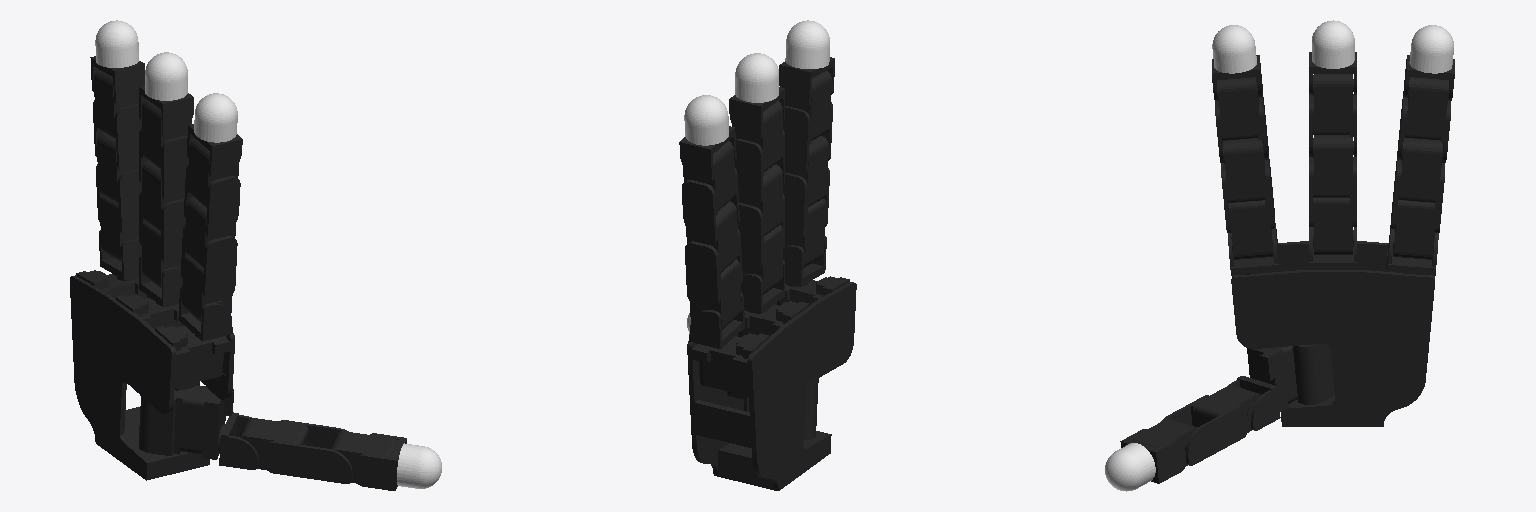
The robot description file, URDF, robot "allegro_hand_left":
<?xml version="1.0" ?>
<!-- =================================================================================== -->
<!-- |    This document was autogenerated by xacro from allegro_hand_description_left.xacro | -->
<!-- |    EDITING THIS FILE BY HAND IS NOT RECOMMENDED                                 | -->
<!-- =================================================================================== -->
<robot name="allegro_hand_left" xmlns:xacro="http://www.ros.org/wiki/xacro">
  <!--
rosrun xacro xacro.py allegro_hand_description_right.urdf.xacro > allegro_hand_description_right.urdf
roslaunch launchers/fuerte/allegro_hand_jgui_right_virtual.launch 
-->
  <!-- ======================== BASE PARAMS ========================= -->
  <!-- ======================== FINGER PARAMS ======================== -->
  <!-- full height from joint to tip. when used,
the radius of the finger tip sphere will be subtracted
and one fixed link will be added for the tip. -->
  <!--0.0435,   0.044981-->
  <!--0.002298-->
  <!--0.002298-->
  <!-- ========================= THUMB PARAMS ========================= -->
  <!-- ========================= LIMITS ========================= -->
  <!-- ============================================================================= -->
  <!-- ============================================================================= -->
  <!-- ============================================================================= -->
  <!-- BASE -->
  <link name="base_link">
    <visual>
      <geometry>
        <mesh filename="package://allegro_hand_description/meshes/base_link_left.obj"/>
      </geometry>
      <!-- LEFT -->
      <origin rpy="-1.5707963259 0 0" xyz="0 0 0 "/>
      <!-- RIGHT -->
      <!--<origin rpy="0 0 0" xyz="0 0 0 "/>-->
      <material name="black">
        <color rgba="0.2 0.2 0.2 1"/>
      </material>
    </visual>
    <collision>
      <origin rpy="0 0 0" xyz="-0.009300 0 -0.0475"/>
      <geometry>
        <box size="0.0408 0.1130 0.095"/>
      </geometry>
    </collision>
  </link>
  <!-- ============================================================================= -->
  <!-- FINGERS -->
  <!-- RIGHT HAND due to which finger is number 0 -->
  <!-- for LEFT HAND switch the sign of the **offset_origin_y** and **finger_angle_r** parameters-->
  <link name="link_8.0">
    <visual>
      <geometry>
        <mesh filename="package://allegro_hand_description/meshes/link_0.0.obj"/>
      </geometry>
      <material name="black"/>
    </visual>
    <collision>
      <geometry>
        <box size="0.0196 0.0275 0.0164"/>
      </geometry>
      <origin rpy="0 0 0" xyz="0 0 0.0082"/>
    </collision>
  </link>
  <joint name="joint_8.0" type="revolute">
    <axis xyz="0 0 1"/>
    <limit effort="0" lower="-0.47" upper="0.47" velocity="0"/>
    <parent link="base_link"/>
    <child link="link_8.0"/>
    <origin rpy="-0.08726646255 0 0" xyz="0 0.0435 -0.001542"/>
  </joint>
  <link name="link_9.0">
    <visual>
      <geometry>
        <mesh filename="package://allegro_hand_description/meshes/link_1.0.obj"/>
      </geometry>
      <material name="black"/>
    </visual>
    <collision>
      <geometry>
        <box size="0.0196 0.0275 0.054"/>
      </geometry>
      <origin rpy="0 0 0" xyz="0 0 0.027"/>
    </collision>
  </link>
  <joint name="joint_9.0" type="revolute">
    <limit effort="0" lower="-0.196" upper="1.61" velocity="0"/>
    <axis xyz="0 1 0"/>
    <parent link="link_8.0"/>
    <child link="link_9.0"/>
    <origin xyz="0 0 0.0164"/>
  </joint>
  <link name="link_10.0">
    <visual>
      <geometry>
        <mesh filename="package://allegro_hand_description/meshes/link_2.0.obj"/>
      </geometry>
      <material name="black"/>
    </visual>
    <collision>
      <geometry>
        <box size="0.0196 0.0275 0.0384"/>
      </geometry>
      <origin rpy="0 0 0" xyz="0 0 0.0192"/>
    </collision>
  </link>
  <joint name="joint_10.0" type="revolute">
    <axis xyz="0 1 0"/>
    <limit effort="0" lower="-0.174" upper="1.709" velocity="0"/>
    <parent link="link_9.0"/>
    <child link="link_10.0"/>
    <origin xyz="0 0 0.054"/>
  </joint>
  <link name="link_11.0">
    <visual>
      <geometry>
        <mesh filename="package://allegro_hand_description/meshes/link_3.0.obj"/>
      </geometry>
      <material name="black"/>
    </visual>
    <collision>
      <geometry>
        <box size="0.0196 0.0275 0.0267"/>
      </geometry>
      <origin rpy="0 0 0" xyz="0 0 0.01335"/>
    </collision>
  </link>
  <joint name="joint_11.0" type="revolute">
    <axis xyz="0 1 0"/>
    <limit effort="0" lower="-0.227" upper="1.618" velocity="0"/>
    <parent link="link_10.0"/>
    <child link="link_11.0"/>
    <origin xyz="0 0 0.0384"/>
  </joint>
  <link name="link_11.0_tip">
    <visual>
      <geometry>
        <mesh filename="package://allegro_hand_description/meshes/link_3.0_tip.obj"/>
      </geometry>
      <material name="white">
        <color rgba=".9 .9 .9 1"/>
      </material>
    </visual>
    <collision>
      <geometry>
        <sphere radius="0.012"/>
      </geometry>
    </collision>
  </link>
  <joint name="joint_11.0_tip" type="fixed">
    <parent link="link_11.0"/>
    <child link="link_11.0_tip"/>
    <origin rpy="0 0 0" xyz="0 0 0.0267"/>
  </joint>
  <link name="link_4.0">
    <visual>
      <geometry>
        <mesh filename="package://allegro_hand_description/meshes/link_0.0.obj"/>
      </geometry>
      <material name="black"/>
    </visual>
    <collision>
      <geometry>
        <box size="0.0196 0.0275 0.0164"/>
      </geometry>
      <origin rpy="0 0 0" xyz="0 0 0.0082"/>
    </collision>
  </link>
  <joint name="joint_4.0" type="revolute">
    <axis xyz="0 0 1"/>
    <limit effort="0" lower="-0.47" upper="0.47" velocity="0"/>
    <parent link="base_link"/>
    <child link="link_4.0"/>
    <origin rpy="0.0 0 0" xyz="0 0 0.0007"/>
  </joint>
  <link name="link_5.0">
    <visual>
      <geometry>
        <mesh filename="package://allegro_hand_description/meshes/link_1.0.obj"/>
      </geometry>
      <material name="black"/>
    </visual>
    <collision>
      <geometry>
        <box size="0.0196 0.0275 0.054"/>
      </geometry>
      <origin rpy="0 0 0" xyz="0 0 0.027"/>
    </collision>
  </link>
  <joint name="joint_5.0" type="revolute">
    <limit effort="0" lower="-0.196" upper="1.61" velocity="0"/>
    <axis xyz="0 1 0"/>
    <parent link="link_4.0"/>
    <child link="link_5.0"/>
    <origin xyz="0 0 0.0164"/>
  </joint>
  <link name="link_6.0">
    <visual>
      <geometry>
        <mesh filename="package://allegro_hand_description/meshes/link_2.0.obj"/>
      </geometry>
      <material name="black"/>
    </visual>
    <collision>
      <geometry>
        <box size="0.0196 0.0275 0.0384"/>
      </geometry>
      <origin rpy="0 0 0" xyz="0 0 0.0192"/>
    </collision>
  </link>
  <joint name="joint_6.0" type="revolute">
    <axis xyz="0 1 0"/>
    <limit effort="0" lower="-0.174" upper="1.709" velocity="0"/>
    <parent link="link_5.0"/>
    <child link="link_6.0"/>
    <origin xyz="0 0 0.054"/>
  </joint>
  <link name="link_7.0">
    <visual>
      <geometry>
        <mesh filename="package://allegro_hand_description/meshes/link_3.0.obj"/>
      </geometry>
      <material name="black"/>
    </visual>
    <collision>
      <geometry>
        <box size="0.0196 0.0275 0.0267"/>
      </geometry>
      <origin rpy="0 0 0" xyz="0 0 0.01335"/>
    </collision>
  </link>
  <joint name="joint_7.0" type="revolute">
    <axis xyz="0 1 0"/>
    <limit effort="0" lower="-0.227" upper="1.618" velocity="0"/>
    <parent link="link_6.0"/>
    <child link="link_7.0"/>
    <origin xyz="0 0 0.0384"/>
  </joint>
  <link name="link_7.0_tip">
    <visual>
      <geometry>
        <mesh filename="package://allegro_hand_description/meshes/link_3.0_tip.obj"/>
      </geometry>
      <material name="white">
        <color rgba=".9 .9 .9 1"/>
      </material>
    </visual>
    <collision>
      <geometry>
        <sphere radius="0.012"/>
      </geometry>
    </collision>
  </link>
  <joint name="joint_7.0_tip" type="fixed">
    <parent link="link_7.0"/>
    <child link="link_7.0_tip"/>
    <origin rpy="0 0 0" xyz="0 0 0.0267"/>
  </joint>
  <link name="link_0.0">
    <visual>
      <geometry>
        <mesh filename="package://allegro_hand_description/meshes/link_0.0.obj"/>
      </geometry>
      <material name="black"/>
    </visual>
    <collision>
      <geometry>
        <box size="0.0196 0.0275 0.0164"/>
      </geometry>
      <origin rpy="0 0 0" xyz="0 0 0.0082"/>
    </collision>
  </link>
  <joint name="joint_0.0" type="revolute">
    <axis xyz="0 0 1"/>
    <limit effort="0" lower="-0.47" upper="0.47" velocity="0"/>
    <parent link="base_link"/>
    <child link="link_0.0"/>
    <origin rpy="0.08726646255 0 0" xyz="0 -0.0435 -0.001542"/>
  </joint>
  <link name="link_1.0">
    <visual>
      <geometry>
        <mesh filename="package://allegro_hand_description/meshes/link_1.0.obj"/>
      </geometry>
      <material name="black"/>
    </visual>
    <collision>
      <geometry>
        <box size="0.0196 0.0275 0.054"/>
      </geometry>
      <origin rpy="0 0 0" xyz="0 0 0.027"/>
    </collision>
  </link>
  <joint name="joint_1.0" type="revolute">
    <limit effort="0" lower="-0.196" upper="1.61" velocity="0"/>
    <axis xyz="0 1 0"/>
    <parent link="link_0.0"/>
    <child link="link_1.0"/>
    <origin xyz="0 0 0.0164"/>
  </joint>
  <link name="link_2.0">
    <visual>
      <geometry>
        <mesh filename="package://allegro_hand_description/meshes/link_2.0.obj"/>
      </geometry>
      <material name="black"/>
    </visual>
    <collision>
      <geometry>
        <box size="0.0196 0.0275 0.0384"/>
      </geometry>
      <origin rpy="0 0 0" xyz="0 0 0.0192"/>
    </collision>
  </link>
  <joint name="joint_2.0" type="revolute">
    <axis xyz="0 1 0"/>
    <limit effort="0" lower="-0.174" upper="1.709" velocity="0"/>
    <parent link="link_1.0"/>
    <child link="link_2.0"/>
    <origin xyz="0 0 0.054"/>
  </joint>
  <link name="link_3.0">
    <visual>
      <geometry>
        <mesh filename="package://allegro_hand_description/meshes/link_3.0.obj"/>
      </geometry>
      <material name="black"/>
    </visual>
    <collision>
      <geometry>
        <box size="0.0196 0.0275 0.0267"/>
      </geometry>
      <origin rpy="0 0 0" xyz="0 0 0.01335"/>
    </collision>
  </link>
  <joint name="joint_3.0" type="revolute">
    <axis xyz="0 1 0"/>
    <limit effort="0" lower="-0.227" upper="1.618" velocity="0"/>
    <parent link="link_2.0"/>
    <child link="link_3.0"/>
    <origin xyz="0 0 0.0384"/>
  </joint>
  <link name="link_3.0_tip">
    <visual>
      <geometry>
        <mesh filename="package://allegro_hand_description/meshes/link_3.0_tip.obj"/>
      </geometry>
      <material name="white">
        <color rgba=".9 .9 .9 1"/>
      </material>
    </visual>
    <collision>
      <geometry>
        <sphere radius="0.012"/>
      </geometry>
    </collision>
  </link>
  <joint name="joint_3.0_tip" type="fixed">
    <parent link="link_3.0"/>
    <child link="link_3.0_tip"/>
    <origin rpy="0 0 0" xyz="0 0 0.0267"/>
  </joint>
  <!-- THUMB -->
  <!--
<xacro:thumb_right
	finger_num=			"3" 
	offset_origin_x=	"-0.0182"	
	offset_origin_y=	"0.019333" 
	offset_origin_z=	"-0.045987"
	
	
	finger_angle_r=		"0"
	finger_angle_p=		"-${95*DEG2RAD}"	
	finger_angle_y=		"-${90*DEG2RAD}"
/>
-->
  <!--
	finger_angle_r=		"${90*DEG2RAD}"
	finger_angle_p=		"-${100*DEG2RAD}"	
	finger_angle_y=		"${0*DEG2RAD}"
	-->
  <link name="link_12.0">
    <visual>
      <geometry>
        <!-- RIGHT -->
        <!-- <mesh filename="package://allegro_hand_description/meshes/link_12.0_right.obj" /> -->
        <!-- LEFT -->
        <mesh filename="package://allegro_hand_description/meshes/link_12.0_left.obj"/>
      </geometry>
      <material name="black">
        <color rgba=".2 .2 .2 1"/>
      </material>
      <origin rpy="3.1415926518 0 0" xyz="0 0 0"/>
    </visual>
    <collision>
      <geometry>
        <box size="0.0358 0.034 0.0455"/>
      </geometry>
      <!-- RIGHT -->
      <!-- <origin rpy="0 0 0" xyz="${-0.0358/2+0.0} ${.018/2} ${.029/2}"/> -->
      <!-- LEFT -->
      <origin rpy="0 0 0" xyz="-0.0179 -0.009 0.0145"/>
    </collision>
  </link>
  <joint name="joint_12.0" type="revolute">
    <axis xyz="+1 0 0"/>
    <limit effort="0" lower="0.263" upper="1.396" velocity="0"/>
    <parent link="base_link"/>
    <child link="link_12.0"/>
    <origin rpy="0 -1.65806278845 1.5707963259" xyz="-0.0182 -0.019333 -0.045987"/>
  </joint>
  <link name="link_13.0">
    <visual>
      <geometry>
        <mesh filename="package://allegro_hand_description/meshes/link_13.0.obj"/>
      </geometry>
      <material name="black">
        <color rgba=".2 .2 .2 1"/>
      </material>
    </visual>
    <collision>
      <geometry>
        <box size="0.0196 0.0275 0.0177"/>
      </geometry>
      <origin rpy="0 0 0" xyz="0 0 0.00885"/>
    </collision>
  </link>
  <joint name="joint_13.0" type="revolute">
    <axis xyz="0 0 -1"/>
    <limit effort="0" lower="-0.105" upper="1.163" velocity="0"/>
    <parent link="link_12.0"/>
    <child link="link_13.0"/>
    <!-- RIGHT -->
    <!-- <origin xyz="-0.027 0.005 0.0399"/> -->
    <!-- LEFT -->
    <origin xyz="-0.027 -0.005 0.0399"/>
  </joint>
  <link name="link_14.0">
    <visual>
      <geometry>
        <mesh filename="package://allegro_hand_description/meshes/link_14.0.obj"/>
      </geometry>
      <material name="black">
		  	</material>
    </visual>
    <collision>
      <geometry>
        <box size="0.0196 0.0275 0.0514"/>
      </geometry>
      <origin rpy="0 0 0" xyz="0 0 0.0257"/>
    </collision>
  </link>
  <joint name="joint_14.0" type="revolute">
    <axis xyz="0 1 0"/>
    <limit effort="0" lower="-0.189" upper="1.644" velocity="0"/>
    <parent link="link_13.0"/>
    <child link="link_14.0"/>
    <origin xyz="0 0 0.0177"/>
  </joint>
  <link name="link_15.0">
    <visual>
      <geometry>
        <mesh filename="package://allegro_hand_description/meshes/link_15.0.obj"/>
      </geometry>
      <material name="black">
    	</material>
    </visual>
    <collision>
      <geometry>
        <box size="0.0196 0.0275 0.0423"/>
      </geometry>
      <origin rpy="0 0 0" xyz="0 0 0.02115"/>
    </collision>
  </link>
  <joint name="joint_15.0" type="revolute">
    <axis xyz="0 1 0"/>
    <limit effort="0" lower="-0.162" upper="1.719" velocity="0"/>
    <parent link="link_14.0"/>
    <child link="link_15.0"/>
    <origin xyz="0 0 0.0514"/>
  </joint>
  <link name="link_15.0_tip">
    <visual>
      <geometry>
        <mesh filename="package://allegro_hand_description/meshes/link_15.0_tip.obj"/>
      </geometry>
      <material name="white">
        <color rgba=".9 .9 .9 1"/>
      </material>
    </visual>
    <collision>
      <geometry>
        <sphere radius="0.012"/>
      </geometry>
      <origin rpy="0 0 0" xyz="0 0 0"/>
    </collision>
  </link>
  <joint name="joint_15.0_tip" type="fixed">
    <parent link="link_15.0"/>
    <child link="link_15.0_tip"/>
    <origin rpy="0 0 0" xyz="0 0 0.0423"/>
    <!--0.0267000000000005-->
  </joint>
  <!-- ============================================================================= -->
  <!-- ============================================================================= -->
  <!-- ============================================================================= -->
  <!-- THUMB MACRO -->
  <!-- END THUMB MACRO -->
  <!-- THREE FINGER MACRO -->
  <!-- [[END]] THREE FINGER MACRO -->
</robot>

--- Facts derived from the render (not from the file) ---
Views: 3 orthographic renders of the robot side by side, from view 1: azimuth 30°, elevation 25°; view 2: azimuth 150°, elevation 25°; view 3: azimuth 270°, elevation 25°.
Robot: allegro_hand_left — 21 links, 20 joints (16 revolute, 4 fixed); root link base_link; default pose: joints at zero except 1 at the middle of their limits (joint_12.0 = 0.8295).
Links seen in each view (by area): view 1: base_link, link_14.0, link_12.0, link_1.0, link_5.0, link_9.0, link_2.0, link_15.0, link_6.0, link_10.0, link_3.0_tip, link_7.0_tip (+9 smaller); view 2: base_link, link_9.0, link_1.0, link_5.0, link_10.0, link_2.0, link_6.0, link_11.0_tip, link_7.0_tip, link_3.0_tip, link_8.0, link_3.0 (+5 smaller); view 3: base_link, link_9.0, link_1.0, link_5.0, link_12.0, link_14.0, link_2.0, link_10.0, link_6.0, link_15.0, link_15.0_tip, link_3.0_tip (+9 smaller).
Boxes of the visible links, x1,y1,x2,y2 form: base_link: [70, 270, 234, 480]; link_14.0: [240, 418, 352, 483]; link_12.0: [139, 382, 233, 459]; link_1.0: [181, 197, 237, 322]; link_5.0: [139, 161, 185, 288]; link_9.0: [96, 133, 141, 261]; link_2.0: [184, 138, 240, 239]; link_15.0: [330, 431, 406, 490]; link_6.0: [139, 99, 191, 201]; link_10.0: [93, 69, 141, 171]; link_3.0_tip: [194, 93, 237, 142]; link_7.0_tip: [145, 52, 187, 100]; base_link: [687, 276, 856, 490]; link_9.0: [685, 201, 742, 329]; link_1.0: [783, 136, 829, 267]; link_5.0: [738, 164, 784, 294]; link_10.0: [682, 141, 739, 244]; link_2.0: [783, 71, 832, 174]; link_6.0: [732, 101, 784, 205]; link_11.0_tip: [684, 95, 728, 145]; link_7.0_tip: [735, 53, 778, 102]; link_3.0_tip: [785, 20, 829, 68]; link_8.0: [689, 292, 744, 348]; link_3.0: [779, 57, 834, 108]; base_link: [1231, 241, 1434, 426]; link_9.0: [1391, 138, 1444, 259]; link_1.0: [1221, 138, 1274, 259]; link_5.0: [1309, 135, 1356, 254]; link_12.0: [1247, 344, 1334, 411]; link_14.0: [1161, 385, 1260, 465]; link_2.0: [1215, 77, 1268, 162]; link_10.0: [1397, 77, 1450, 162]; link_6.0: [1309, 74, 1356, 156]; link_15.0: [1120, 419, 1197, 483]; link_15.0_tip: [1105, 443, 1155, 491]; link_3.0_tip: [1212, 25, 1256, 73].
Size in the robot's own frame: 0.1383 by 0.1948 by 0.2432 metres.
21 mesh visuals loaded from 11 distinct referenced files (11 OBJ).